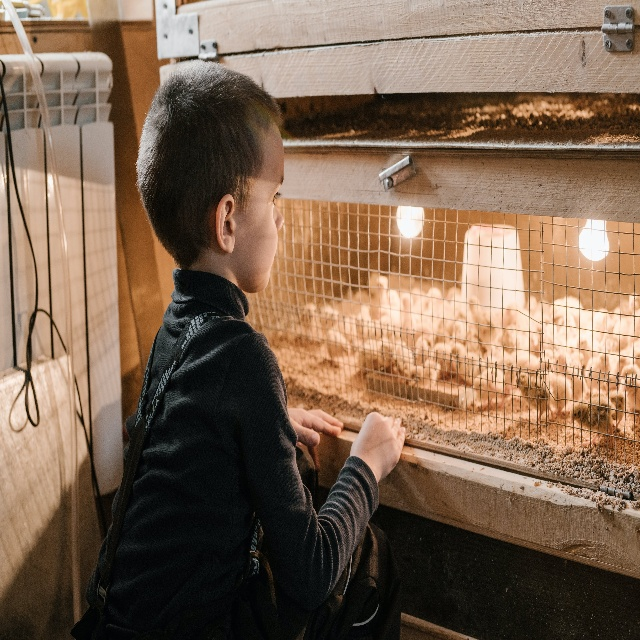Sin_guantes: (350, 411, 406, 480), (287, 407, 344, 445)
